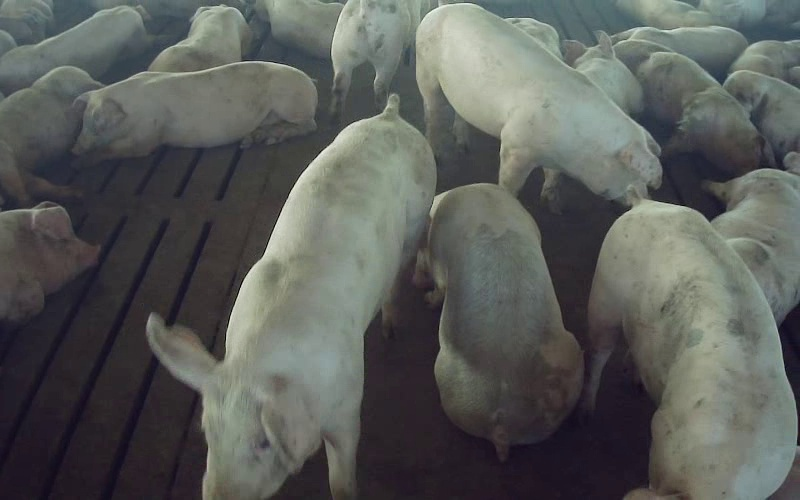pig: (146, 95, 435, 499), (581, 199, 796, 499), (416, 4, 659, 210), (416, 184, 583, 460), (636, 52, 774, 175), (708, 152, 799, 324), (0, 66, 102, 206), (0, 6, 147, 94), (148, 5, 252, 71)
